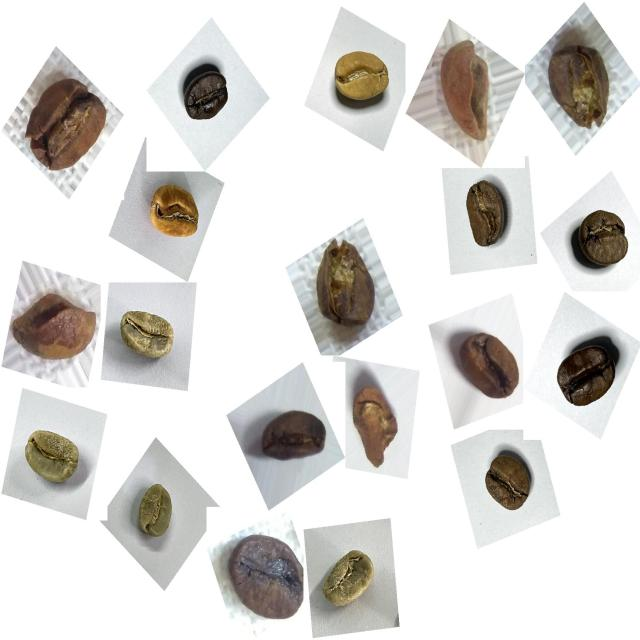bad: (18, 61, 119, 185), (224, 524, 311, 634), (538, 24, 621, 139), (6, 282, 100, 378), (304, 228, 386, 337), (433, 32, 505, 149), (450, 322, 527, 413), (342, 372, 406, 476), (250, 395, 332, 474)
dark: (546, 327, 625, 422), (176, 54, 242, 132)
green: (13, 416, 90, 500), (313, 536, 386, 624), (111, 297, 184, 376), (127, 475, 184, 549)
light: (324, 37, 399, 121), (139, 175, 206, 252)
medium: (567, 201, 638, 281), (454, 174, 518, 259), (475, 445, 542, 524)
